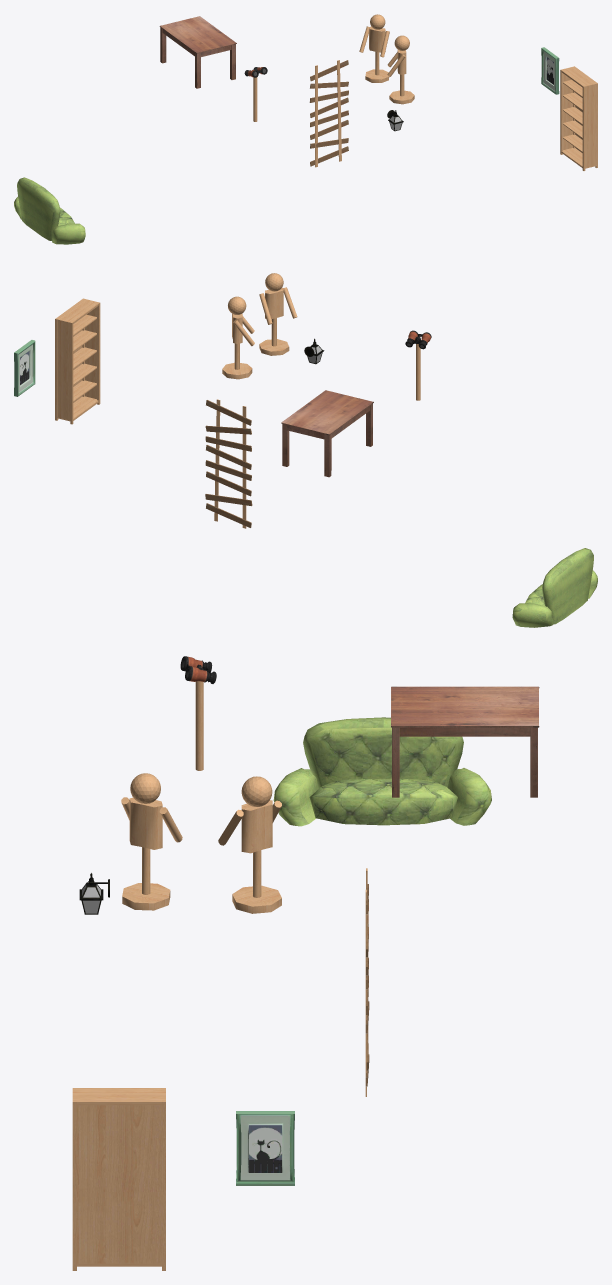
Rendered from MebelHero.fbx.
3 views of the same model, one above another, from view 1: azimuth 30°, elevation 25°; view 2: azimuth 150°, elevation 25°; view 3: azimuth 270°, elevation 25° (orthographic). The views are drawn at different scales.
Visible parts, largest first — view 1: Mebel.052, Mebel.090, Mebel.064, Mebel.015, Mebel.005, Mebel.001, Mebel.018; view 2: Mebel.052, Mebel.090, Mebel.064, Mebel.015, Mebel.001, Mebel.005, Mebel.018; view 3: Mebel.090, Mebel.052, Mebel.064, Mebel.018, Mebel.001, Mebel.005, Mebel.015, Mebel.057.
Part boxes in pixels (x1,y1,x2,y2): Mebel.052: (560,66,597,170); Mebel.090: (14,177,85,244); Mebel.064: (159,16,236,88); Mebel.015: (309,60,348,167); Mebel.005: (359,14,389,82); Mebel.001: (387,35,414,104); Mebel.018: (541,47,559,94); Mebel.052: (55,298,100,424); Mebel.090: (512,548,597,627); Mebel.064: (281,390,373,477); Mebel.015: (205,399,252,528); Mebel.001: (259,273,297,355); Mebel.005: (222,296,254,379); Mebel.018: (14,340,35,396); Mebel.090: (273,717,491,826); Mebel.052: (72,1088,165,1270); Mebel.064: (391,686,539,797); Mebel.018: (236,1111,294,1185); Mebel.001: (121,773,182,910); Mebel.005: (218,776,281,913); Mebel.015: (365,868,369,1096); Mebel.057: (195,681,203,770).
Size of the model in its own units: 1591 by 510 by 658.
